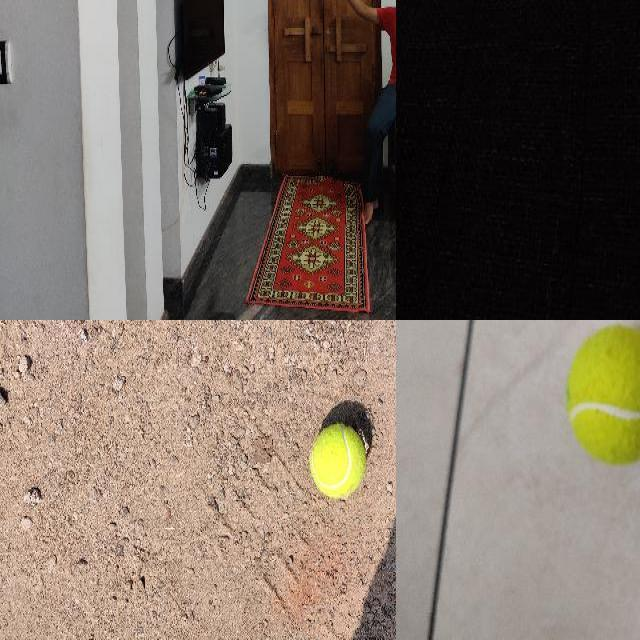tennis-ball: (565, 325, 639, 463), (310, 423, 365, 497)
